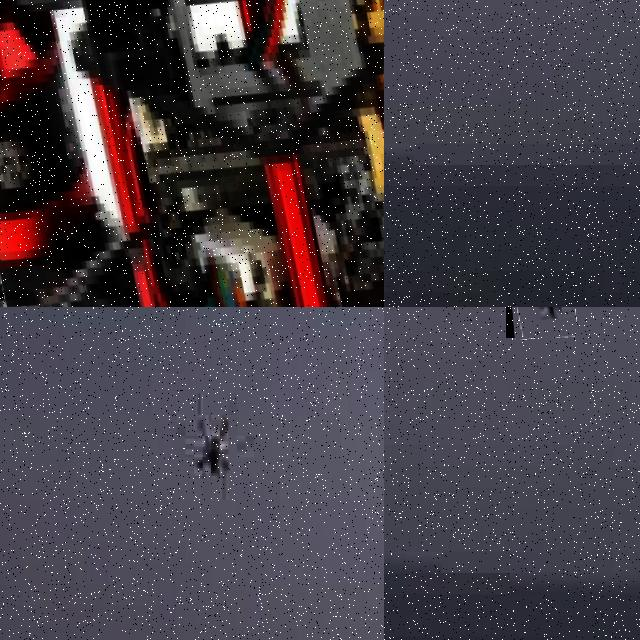drone: (0, 0, 384, 307), (506, 307, 575, 338)
